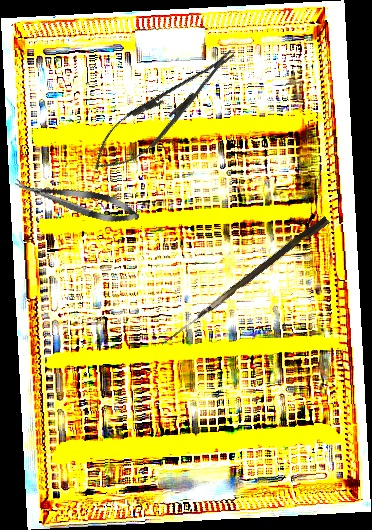Hook Surgical: (161, 213, 330, 353)
Micro Scissor: (11, 171, 143, 230)
Needle Holder: (82, 36, 247, 185)
